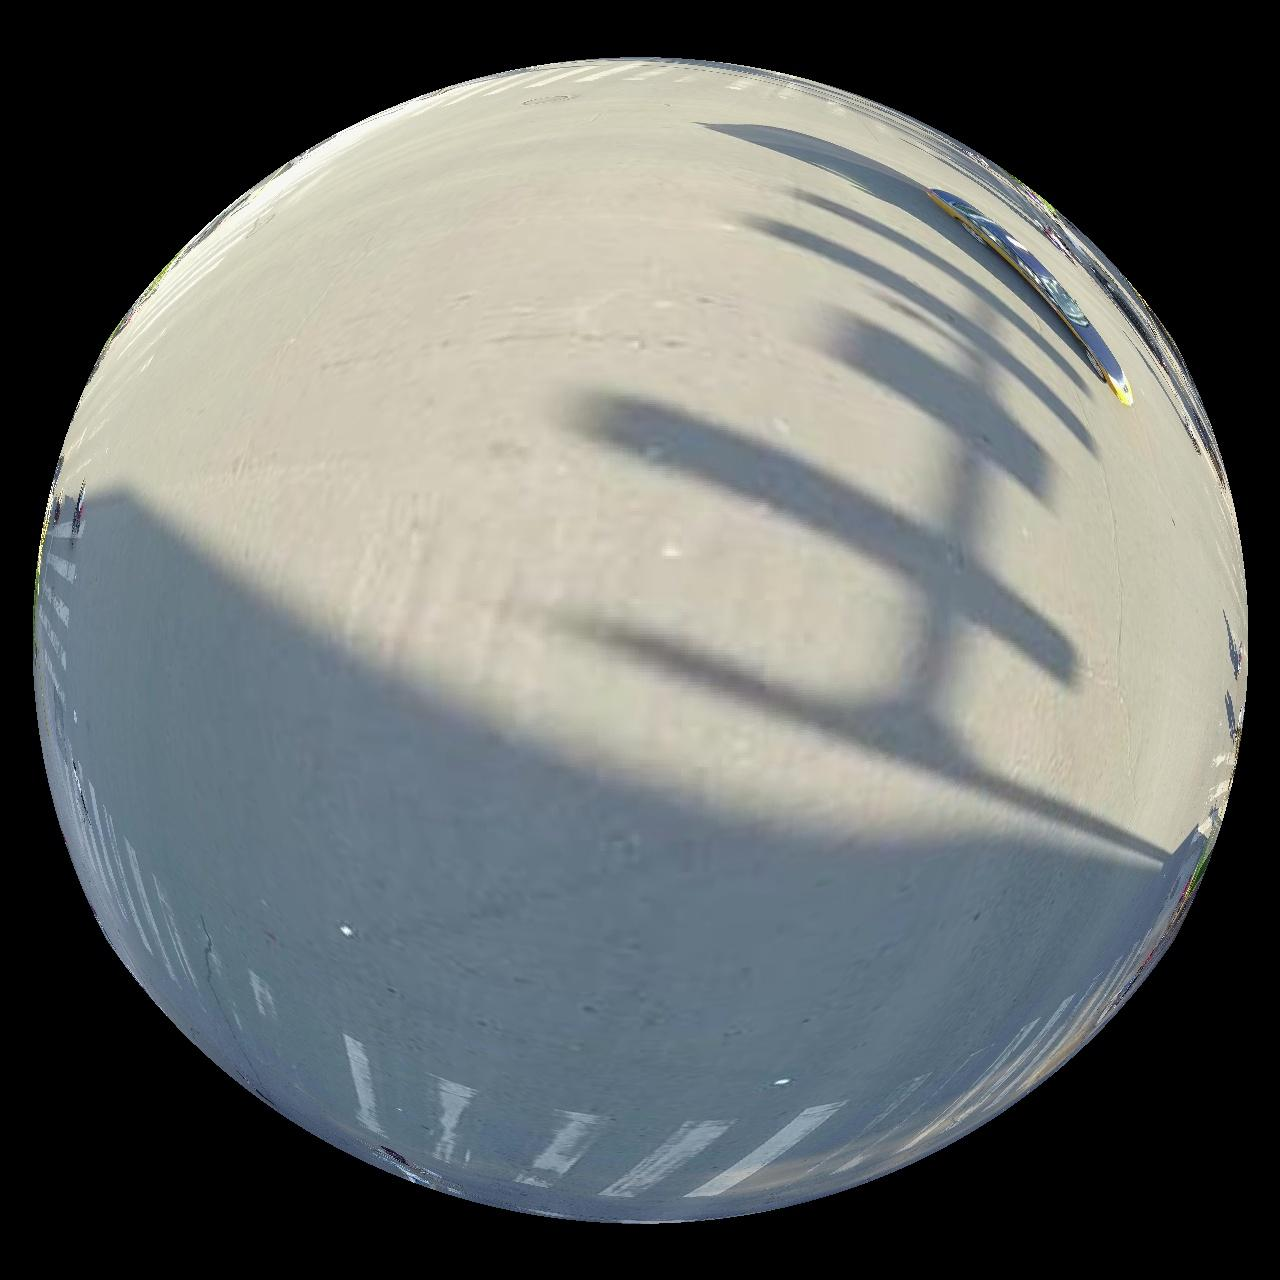cars: (928, 187, 1134, 404)
